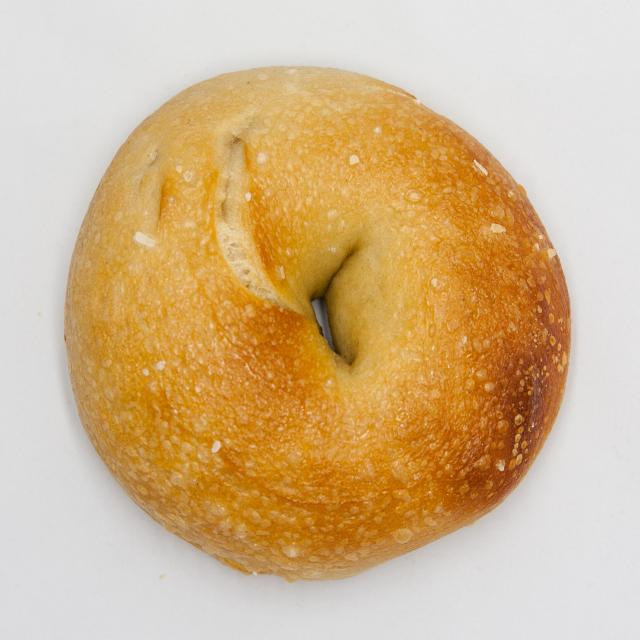Bagel: (65, 68, 570, 580)
